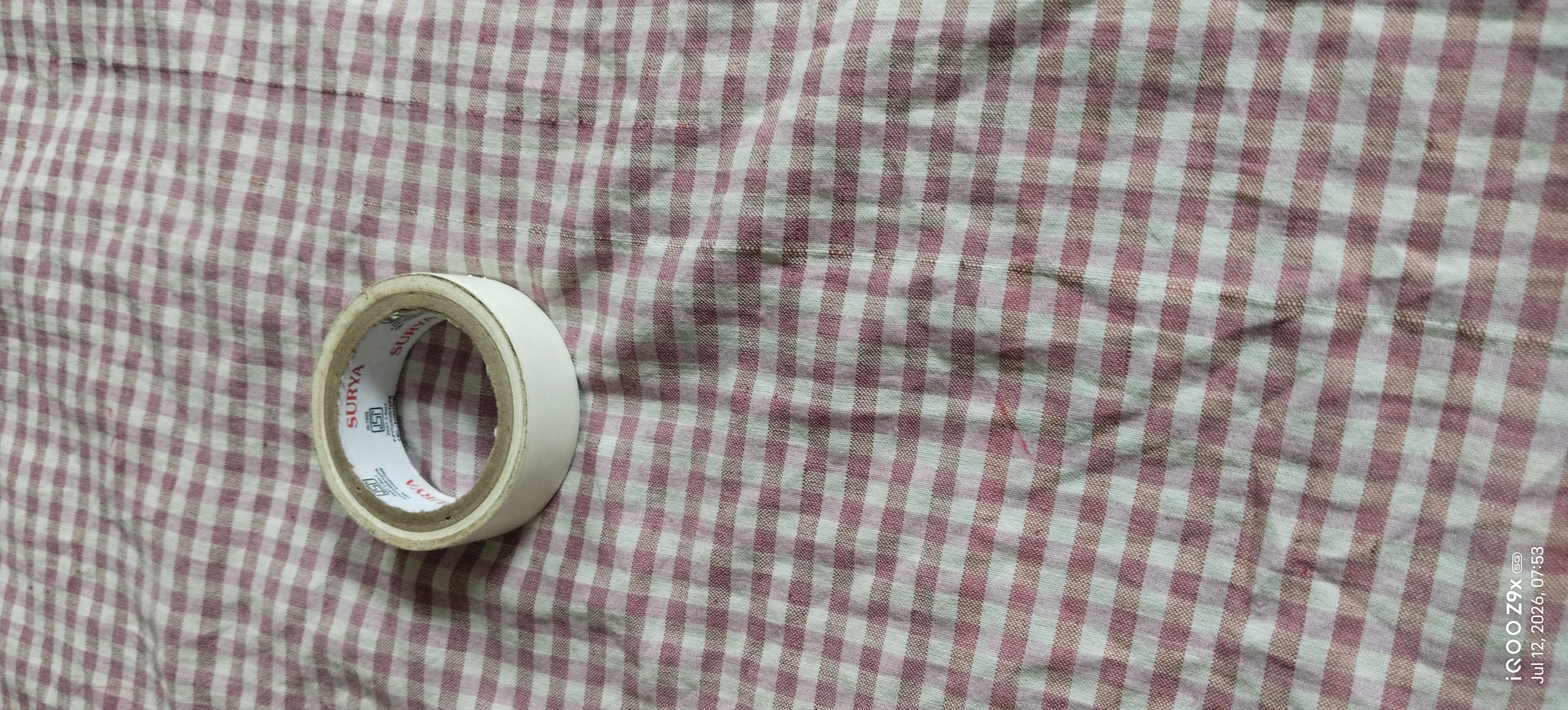tape_roll: (291, 256, 595, 566)
